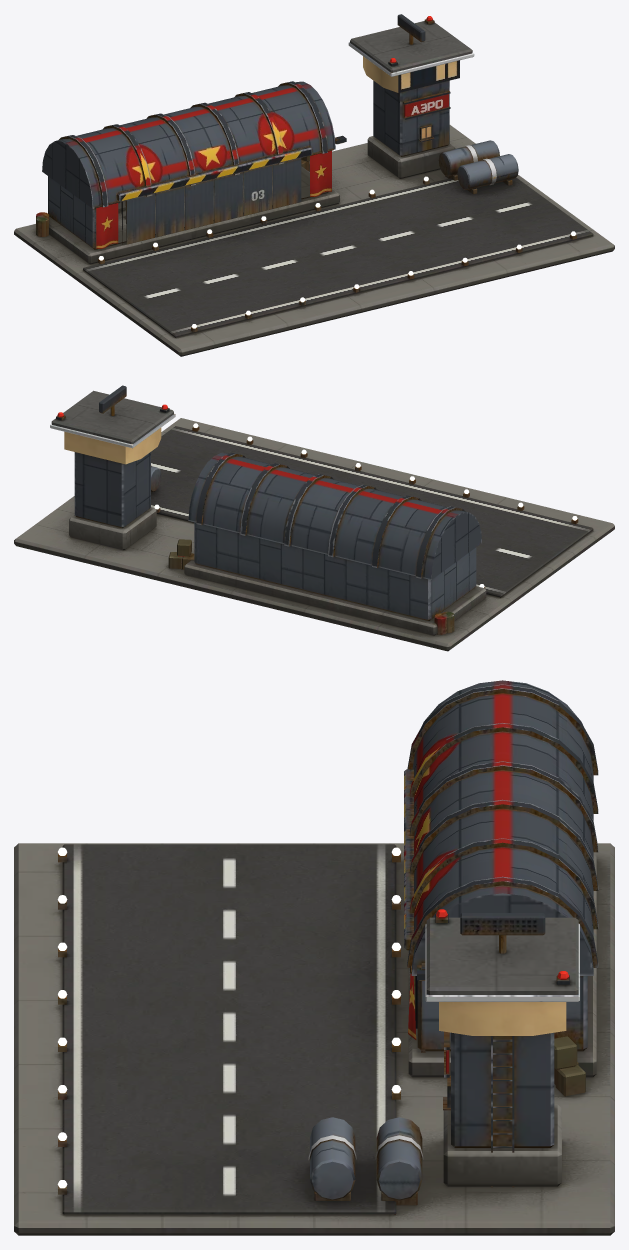
The model's file is afld.soviet.glb.
3 views of the same model, one above another, from view 1: azimuth 30°, elevation 25°; view 2: azimuth 150°, elevation 25°; view 3: azimuth 270°, elevation 25° (orthographic). The views are drawn at different scales.
Parts seen in each view (by area): view 1: root_mesh; view 2: root_mesh, radar_mesh; view 3: root_mesh, radar_mesh.
Part boxes in pixels (x1,y1,x2,y2): root_mesh: (14,16,614,356); root_mesh: (14,390,614,651); radar_mesh: (99,385,126,415); root_mesh: (14,680,614,1235); radar_mesh: (460,913,545,953).
Size of the model in its own units: 2.98 by 0.955 by 1.98.
5 materials, 1 textured.
